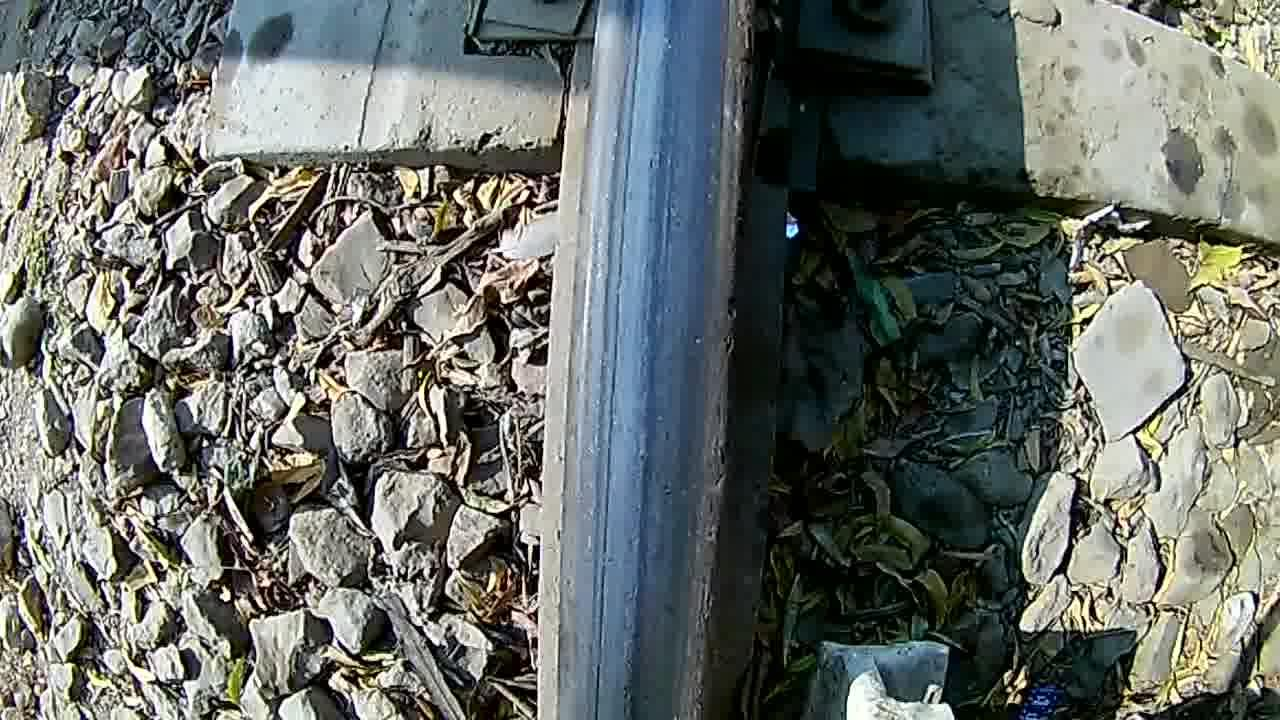clip_missing: (531, 3, 763, 720)
